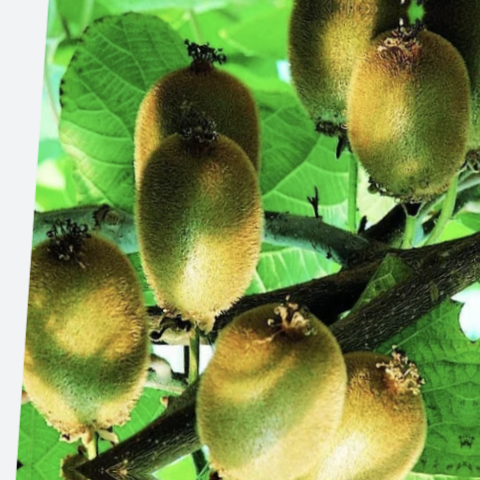kiwi: (0, 198, 178, 442), (109, 116, 290, 341), (159, 296, 354, 480), (330, 25, 480, 209)
